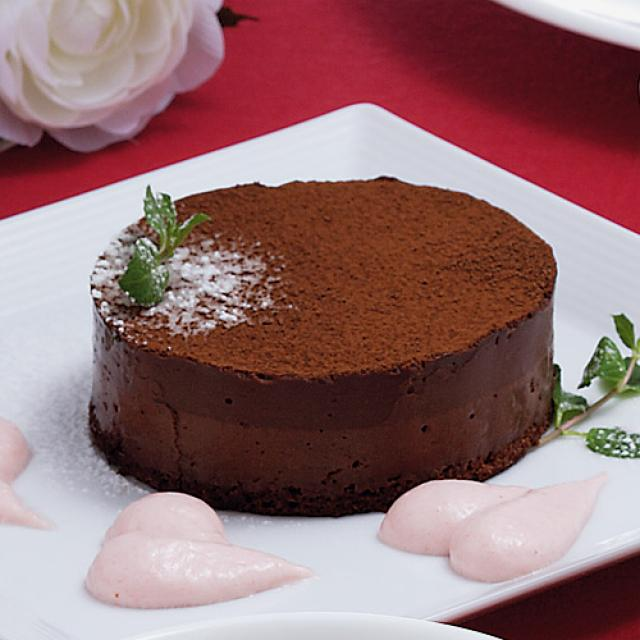chocolatecake: (86, 171, 562, 516)
